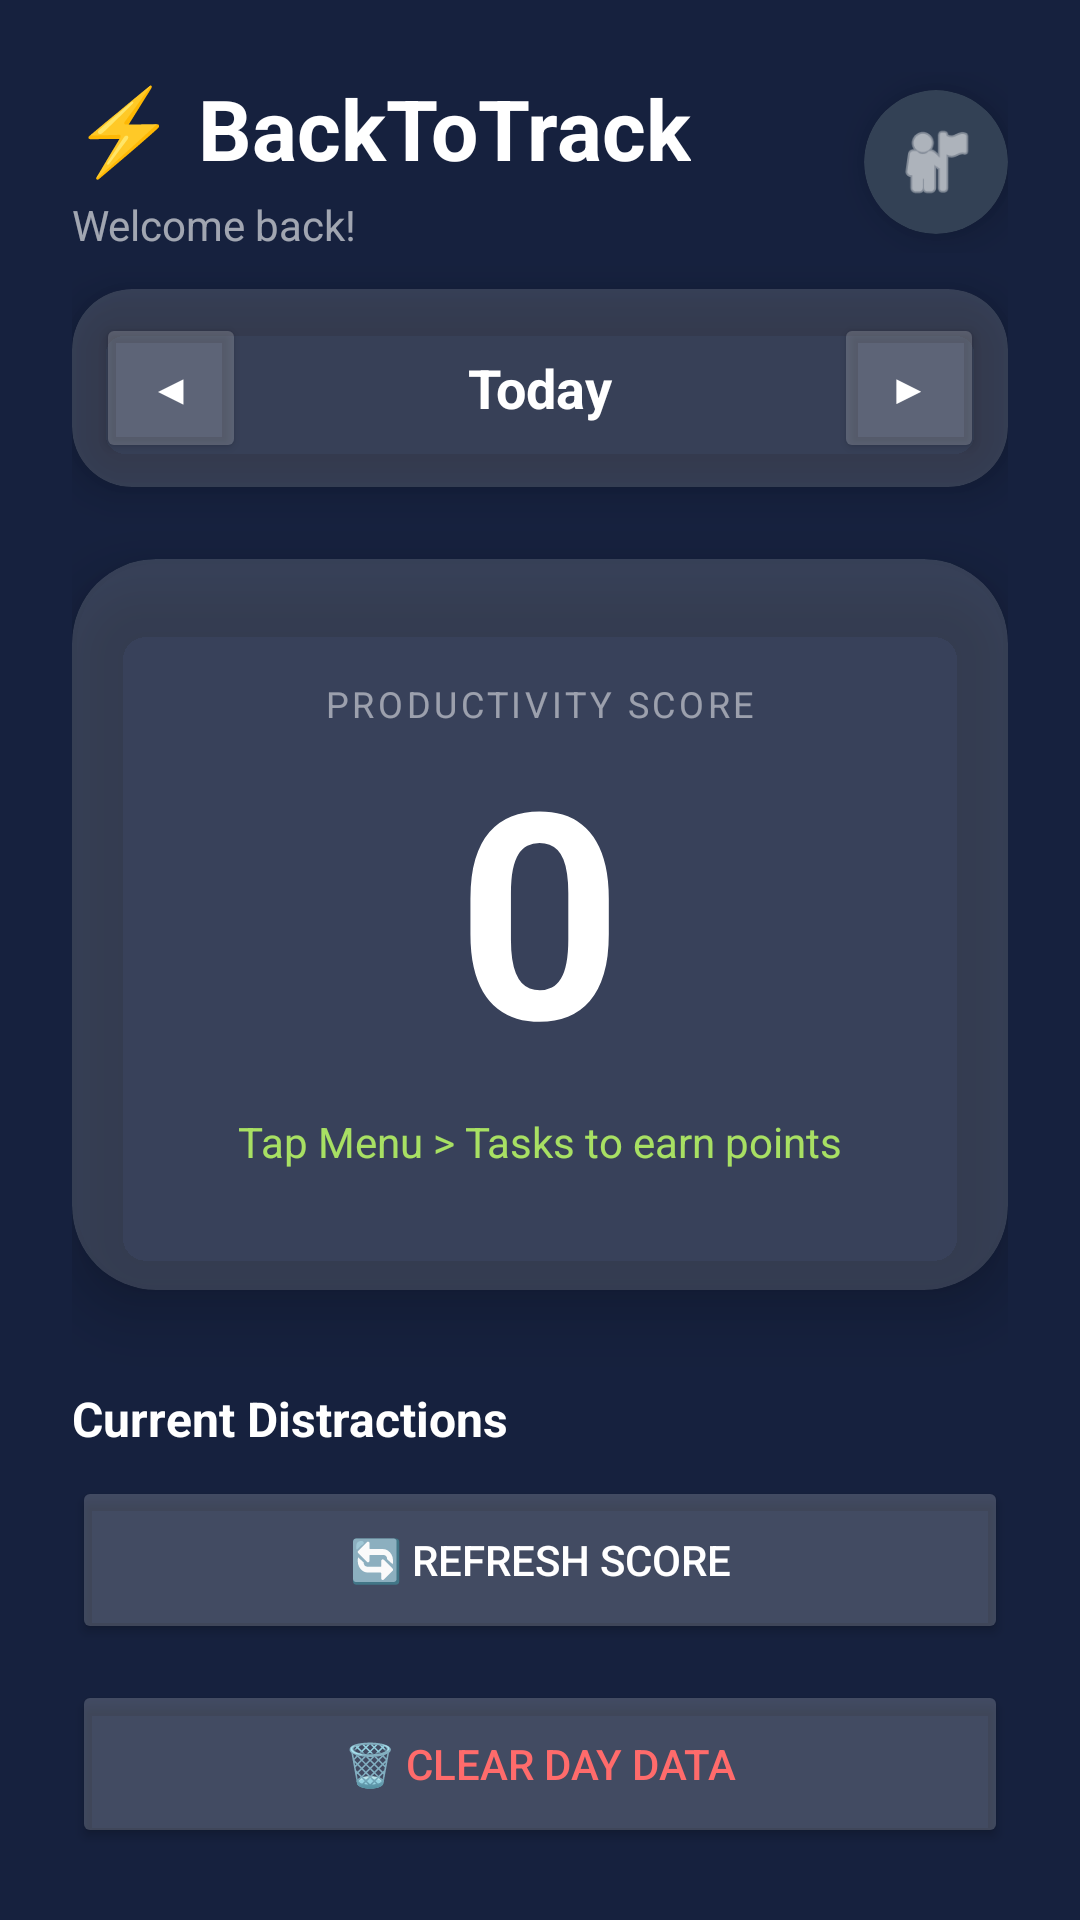

Icon click points for this 1080x1920 phone screenshot, format point (x, y):
myplaces: point (936, 162)
